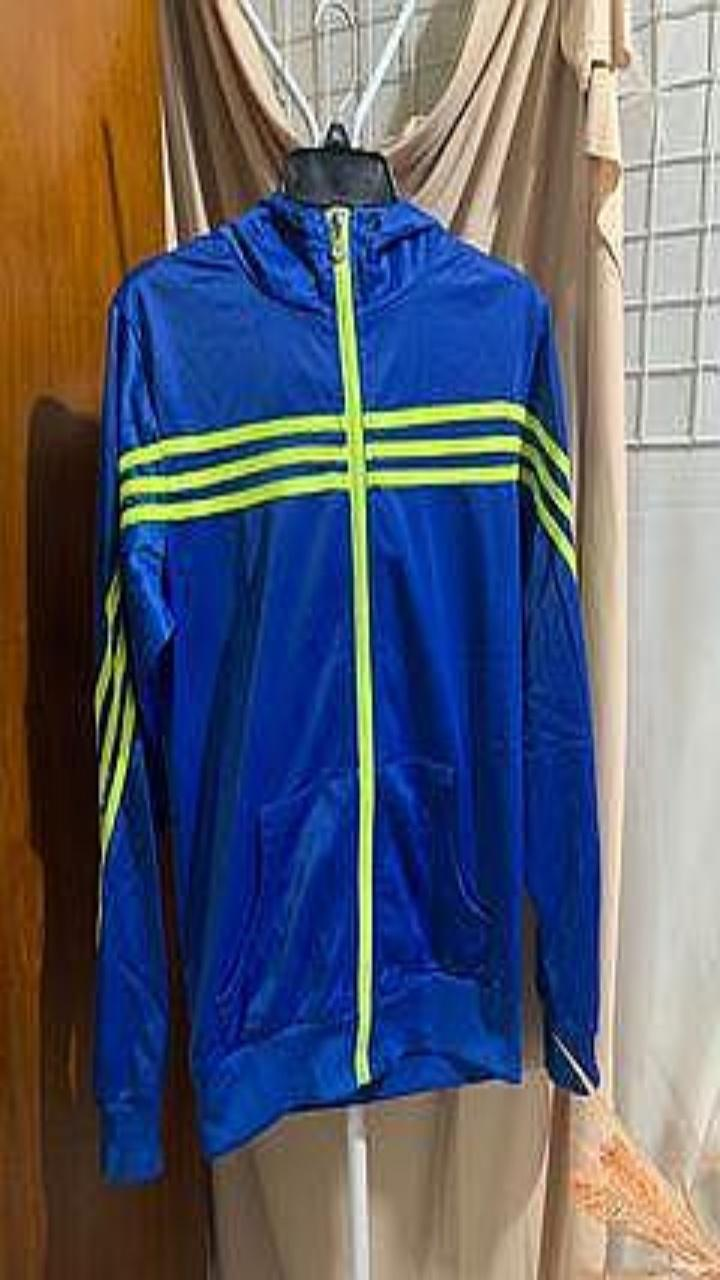Sports_Jacket: (94, 189, 599, 1180)
